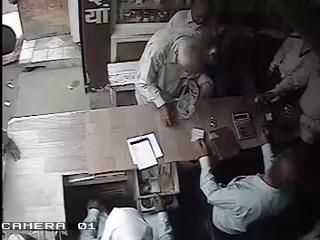Normal: (192, 131, 302, 238), (134, 0, 220, 113)
